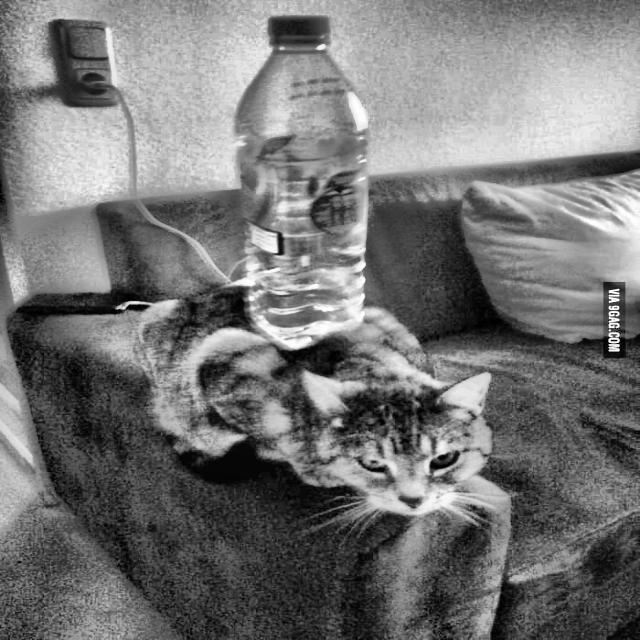waterbottle: (205, 10, 398, 357)
